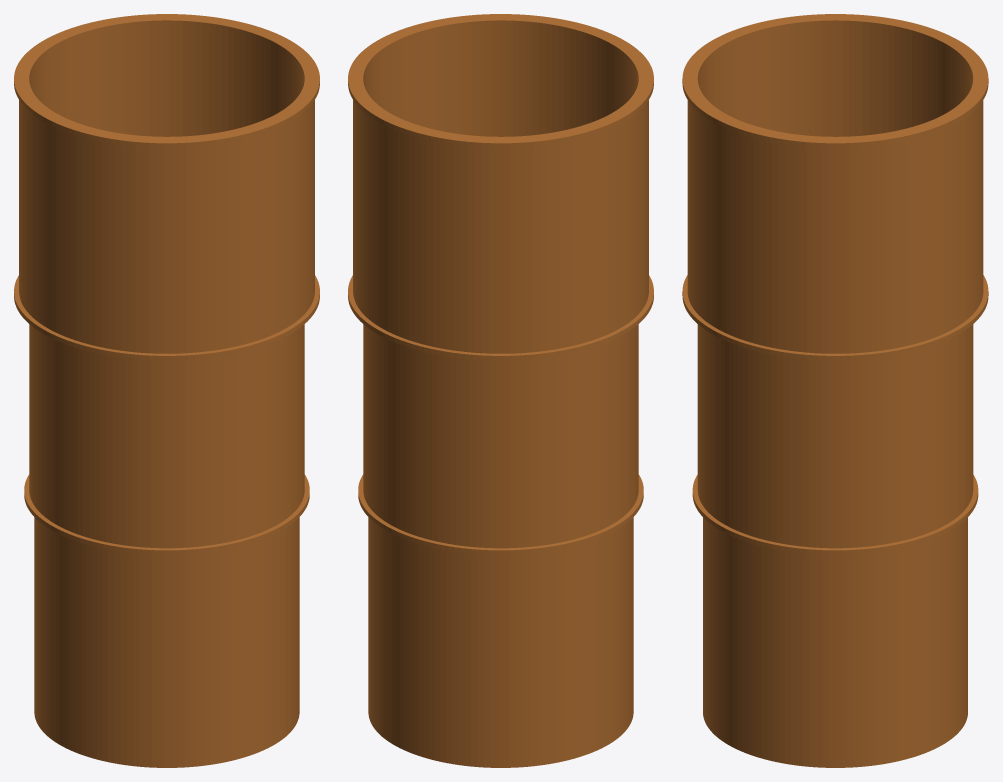
Rendered from CryoCaseKTX2.glb.
3 views of the same model, side by side, from view 1: azimuth 30°, elevation 25°; view 2: azimuth 150°, elevation 25°; view 3: azimuth 270°, elevation 25° (orthographic).
Bounding box in the file's own units: 7.2 × 16.44 × 7.2.
